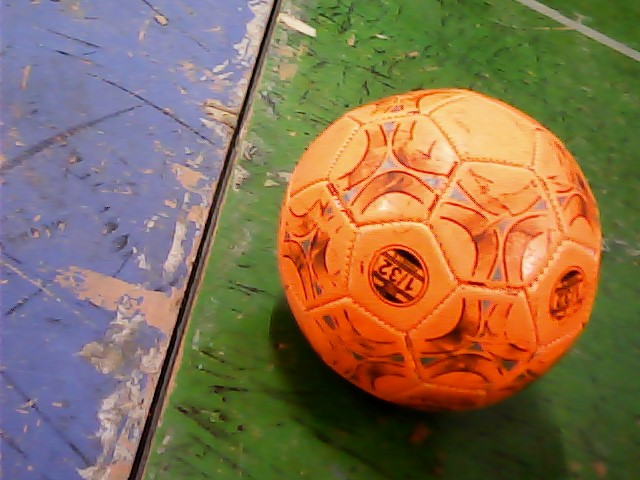Orange_ball: (277, 80, 604, 428)
